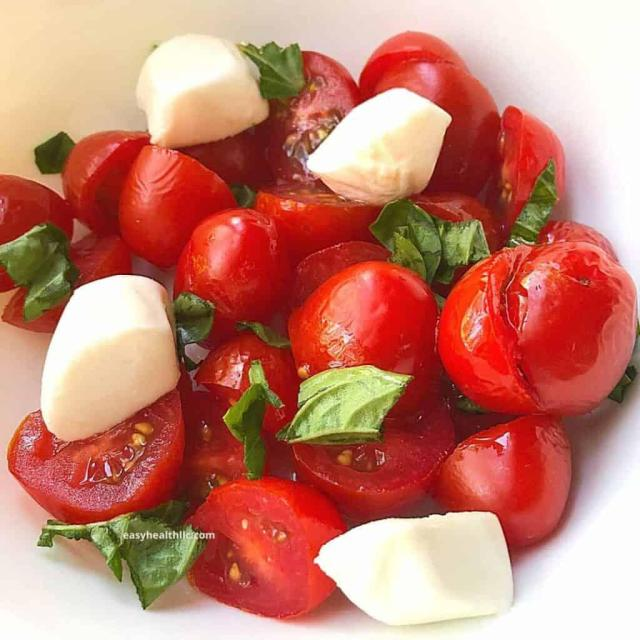Tomato: (437, 241, 628, 412), (290, 262, 444, 404), (190, 474, 357, 604), (174, 206, 298, 335), (437, 416, 577, 524)
